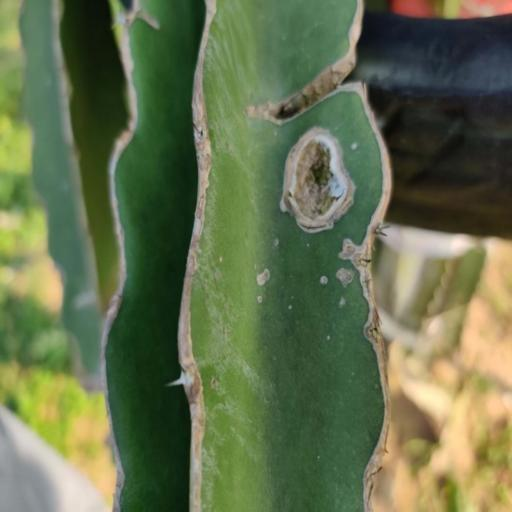stemcanker: (233, 259, 285, 304), (337, 370, 392, 400), (331, 234, 375, 268), (310, 329, 352, 364), (204, 356, 232, 408), (304, 264, 334, 300), (211, 244, 243, 276), (344, 138, 376, 168), (265, 230, 303, 254), (329, 266, 362, 291), (282, 301, 314, 322), (307, 440, 328, 472), (332, 298, 365, 318), (285, 280, 310, 306)
